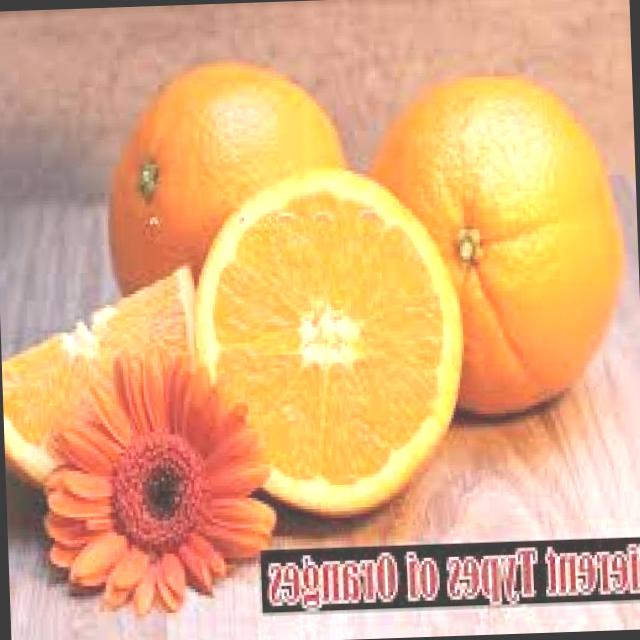Orange: (186, 163, 471, 524), (362, 72, 626, 436), (100, 59, 344, 346)
